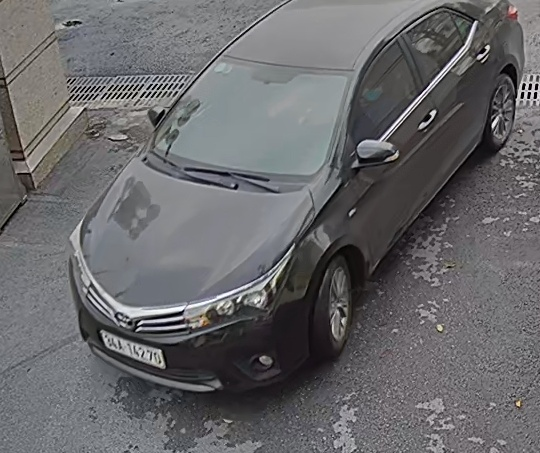vehicle plate: (94, 328, 171, 373)
